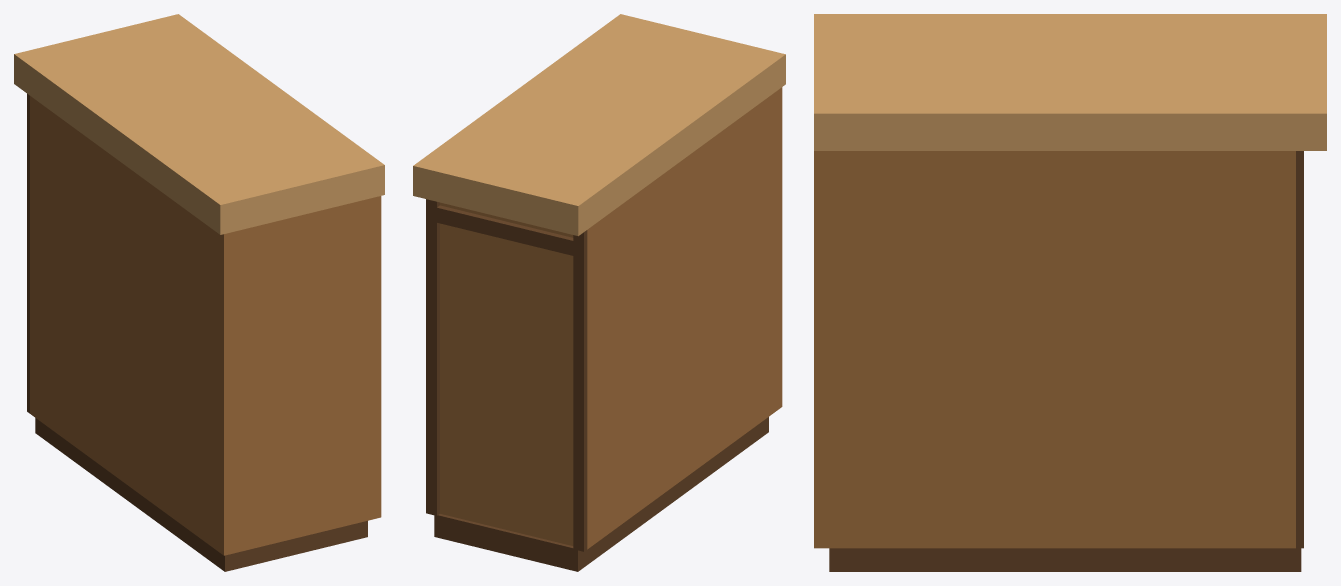
The model's file is counter_half.glb.
3 renders of one model, left to right at view 1: azimuth 30°, elevation 25°; view 2: azimuth 150°, elevation 25°; view 3: azimuth 270°, elevation 25°, orthographic. The views are drawn at different scales.
Visible parts, largest first — view 1: counter_half_body; view 2: counter_half_body; view 3: counter_half_body.
Boxes of the visible parts, left/top/right/bottom form: counter_half_body: left=14, top=14, right=384, bottom=571; counter_half_body: left=413, top=14, right=785, bottom=571; counter_half_body: left=814, top=14, right=1326, bottom=571.
Size of the model in its own units: 0.46 by 1 by 1.
